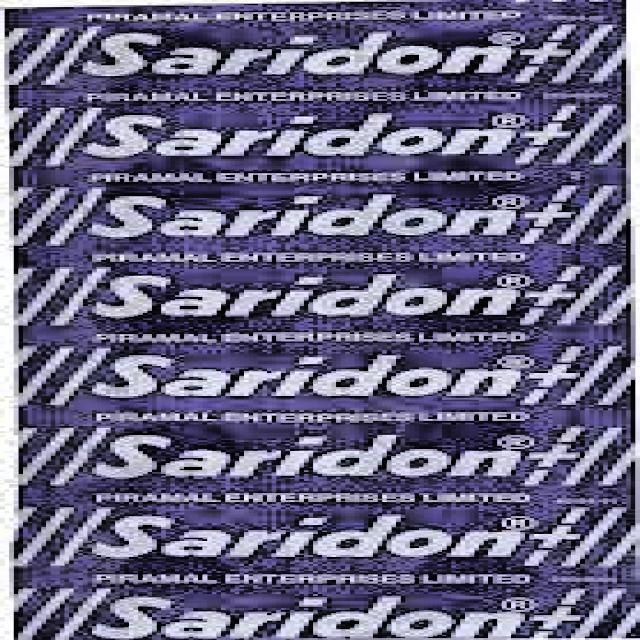Saridon: (24, 12, 640, 636)
